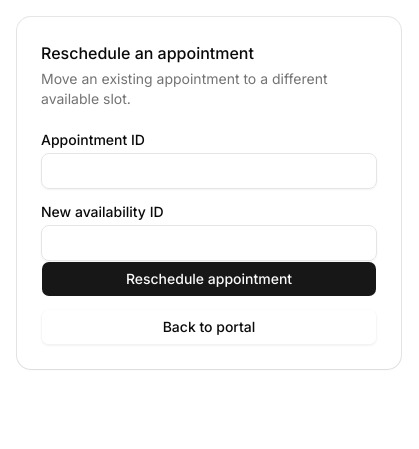
ReschedulePage › shows the backend's error message on failure
The image size is (419, 449).
In the field labelled "Appointment ID": [209, 171] box [41,153,377,189], type "appt-1"
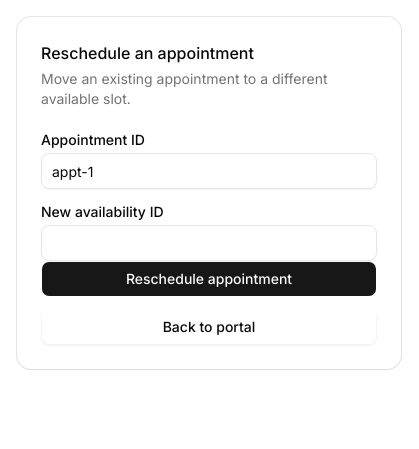
In the field labelled "New availability ID": [209, 243] box [41,225,377,261], type "slot-2"
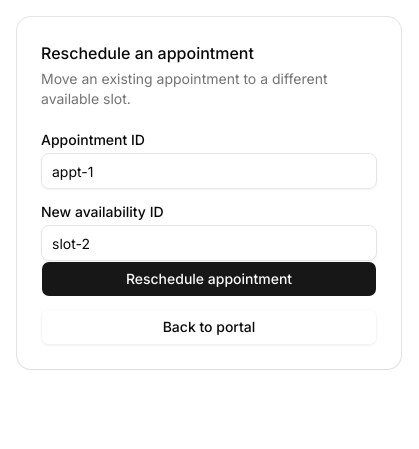
Click the button "Reschedule appointment": [209, 279] box [41,261,377,297]
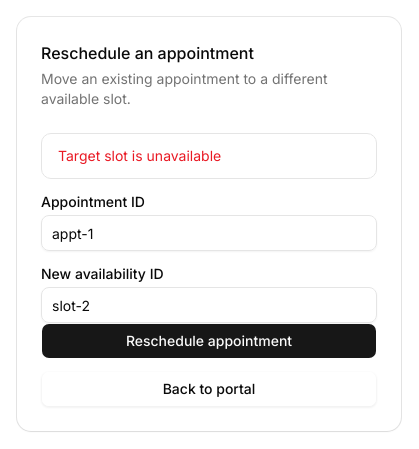
Now the text "Target slot is unavailable" is shown, box [58,147,221,164]
